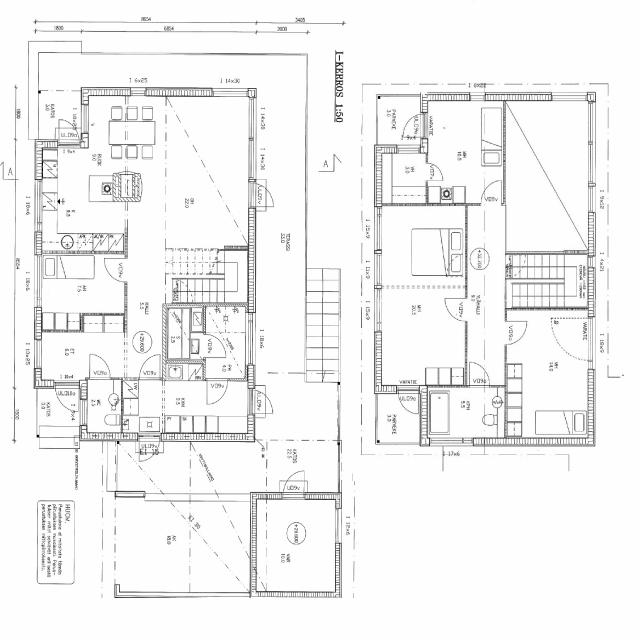door: (55, 380, 78, 414), (248, 183, 276, 207), (283, 468, 304, 499), (400, 114, 428, 137), (139, 433, 159, 465), (398, 385, 418, 417), (248, 390, 275, 413), (59, 117, 79, 147), (104, 258, 128, 282), (203, 334, 226, 358), (139, 354, 160, 380), (207, 378, 227, 404), (90, 354, 110, 380), (470, 362, 490, 388), (481, 181, 501, 206), (505, 322, 527, 344), (446, 299, 468, 321), (426, 163, 443, 180)
